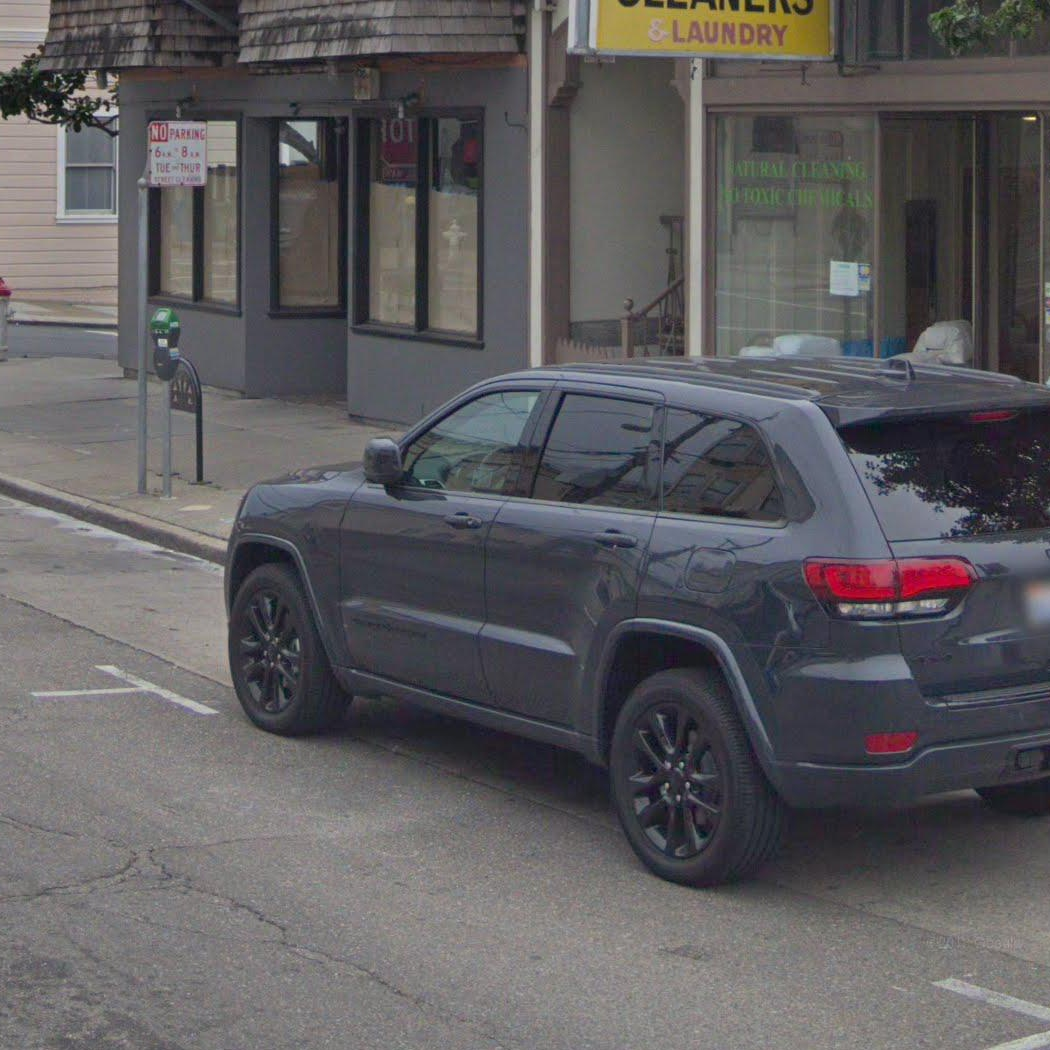No Parking: (145, 119, 209, 188)
